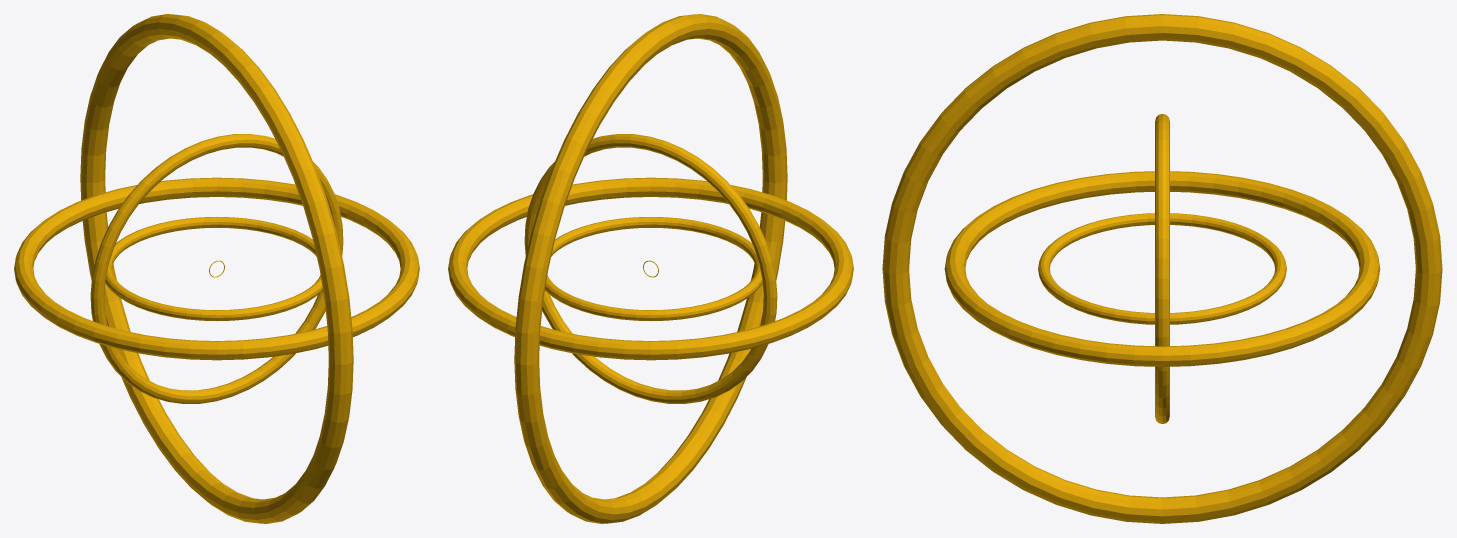
The model's file is Rings.glb.
3 views of the same model, side by side, from view 1: azimuth 30°, elevation 25°; view 2: azimuth 150°, elevation 25°; view 3: azimuth 270°, elevation 25° (orthographic). The views are drawn at different scales.
Visible parts, largest first — view 1: Torus.004, Torus.003, Torus.001, Torus.002; view 2: Torus.004, Torus.003, Torus.001, Torus.002; view 3: Torus.004, Torus.003, Torus.002, Torus.001.
Part boxes in pixels (bbox=[...]): Torus.004: bbox=[80, 14, 353, 523]; Torus.003: bbox=[14, 177, 419, 360]; Torus.001: bbox=[90, 134, 343, 403]; Torus.002: bbox=[105, 217, 322, 320]; Torus.004: bbox=[514, 14, 787, 523]; Torus.003: bbox=[448, 177, 853, 360]; Torus.001: bbox=[524, 134, 777, 403]; Torus.002: bbox=[545, 217, 762, 320]; Torus.004: bbox=[882, 14, 1442, 523]; Torus.003: bbox=[944, 171, 1380, 366]; Torus.002: bbox=[1038, 213, 1286, 324]; Torus.001: bbox=[1155, 114, 1169, 423].
Size of the model in its own units: 14.7 by 18.9 by 18.9.
